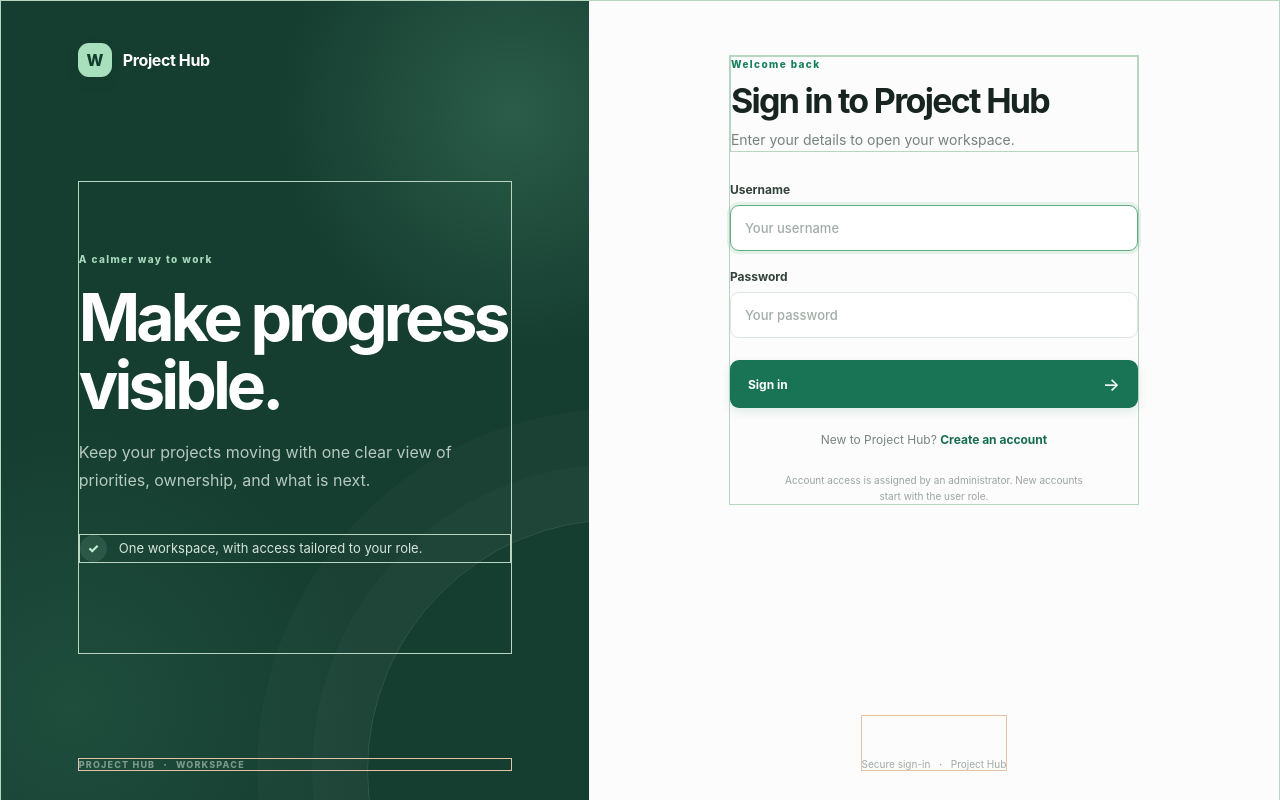
Test: authentication › shows a rejected sign-in and does not save a session
Type " member " into the field labelled "Username" at (934, 228), box [730,205,1138,251]
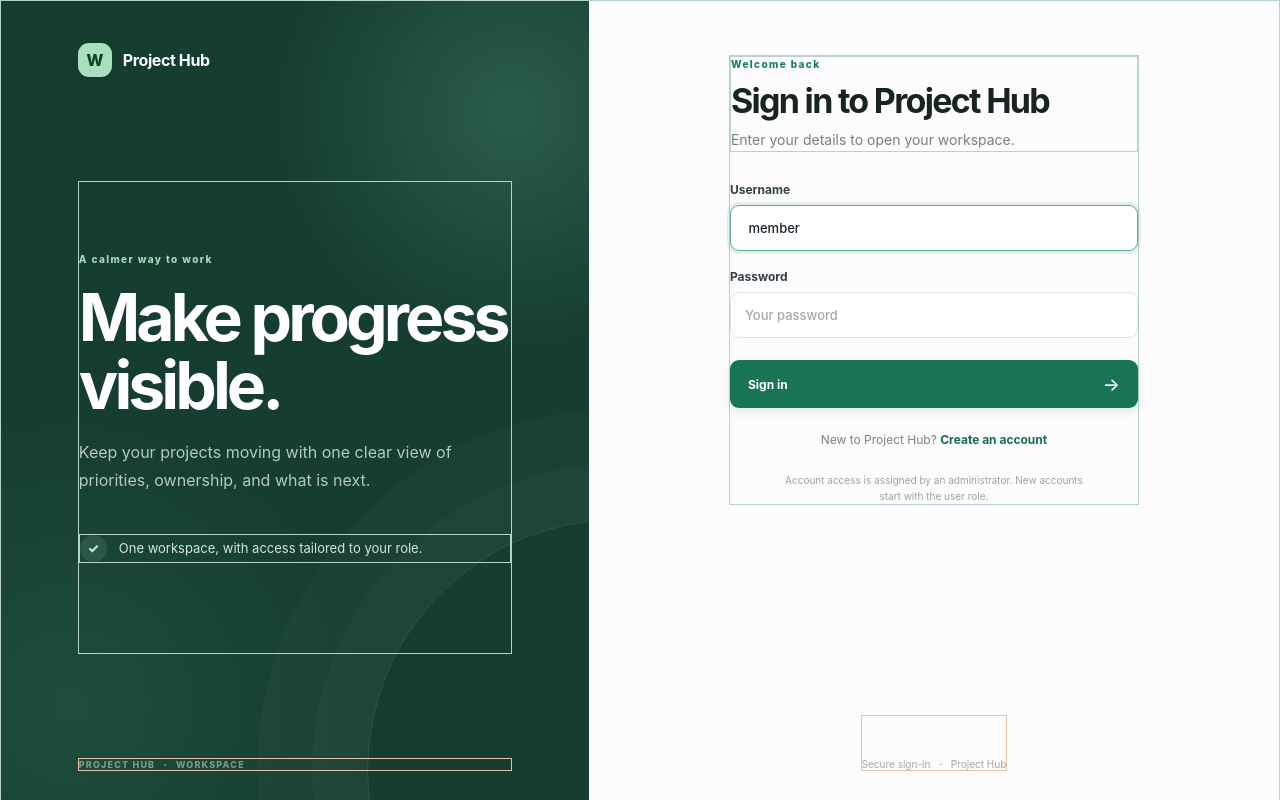
Type "incorrect-password" into the password field labelled "Password" at (934, 315), box [730,292,1138,338]
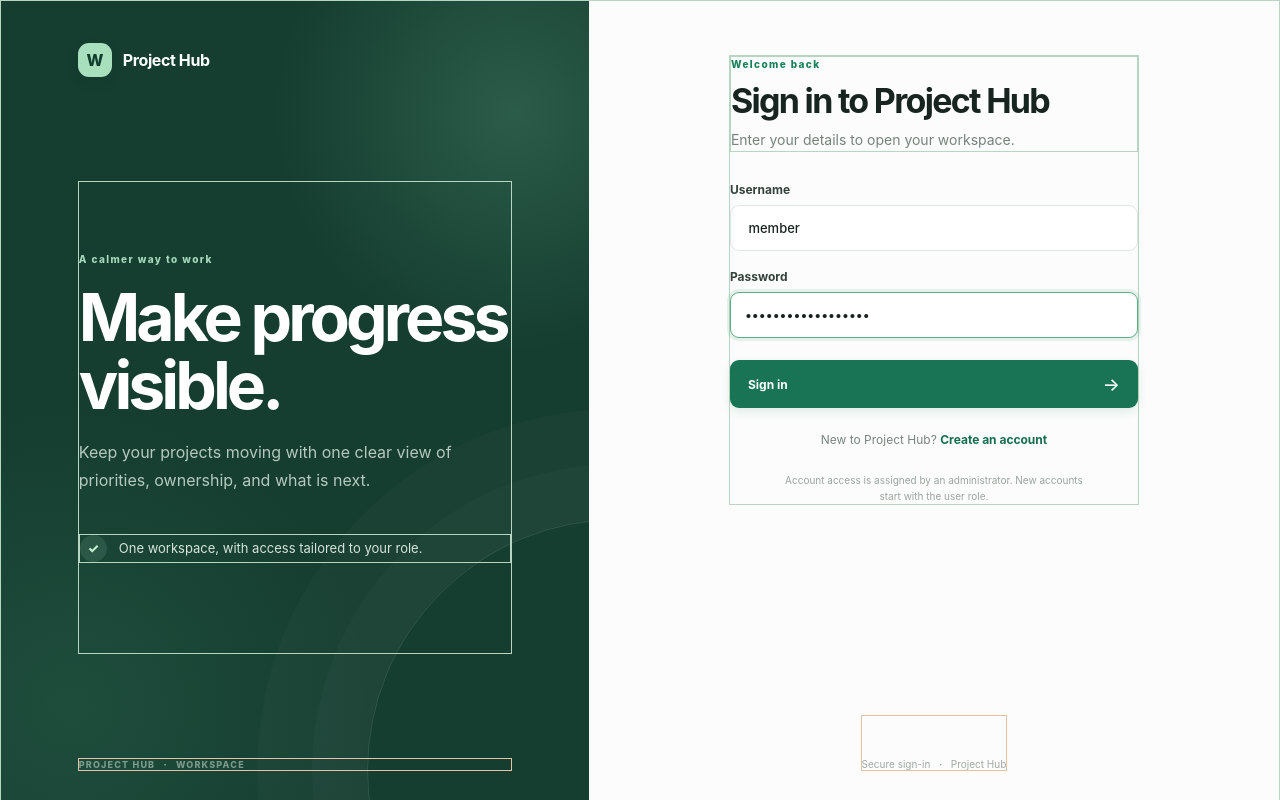
Click the button "Sign in →" at (768, 384), box [730,360,1138,408]
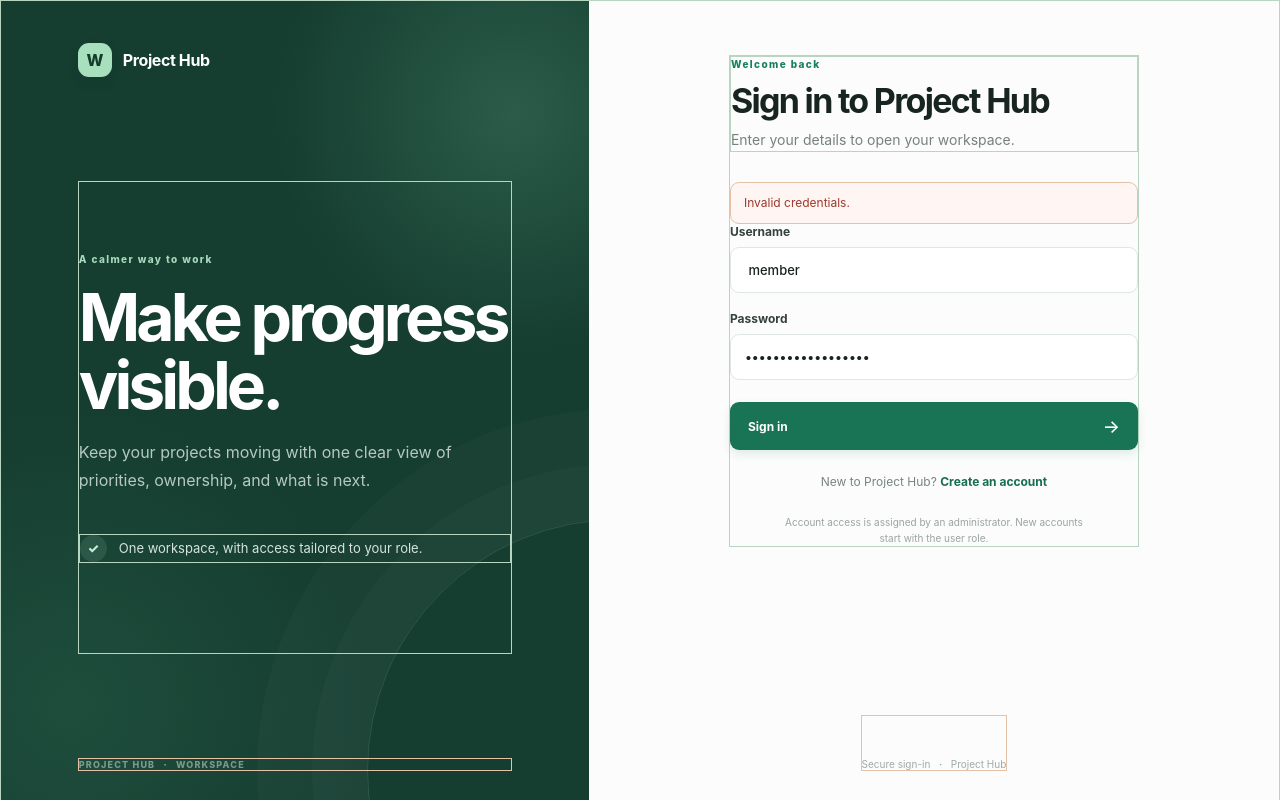
expect the button "Sign in →" is enabled: met, box [730,402,1138,450]
expect the message reads "Invalid credentials.": met, box [744,195,850,210]
